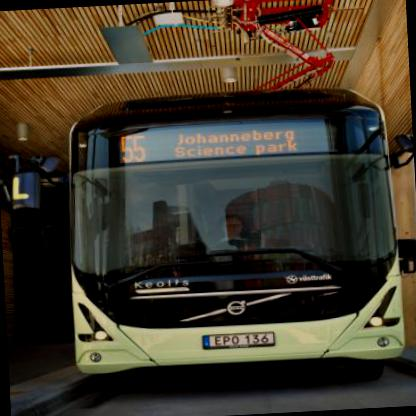bus: (0, 81, 415, 399)
